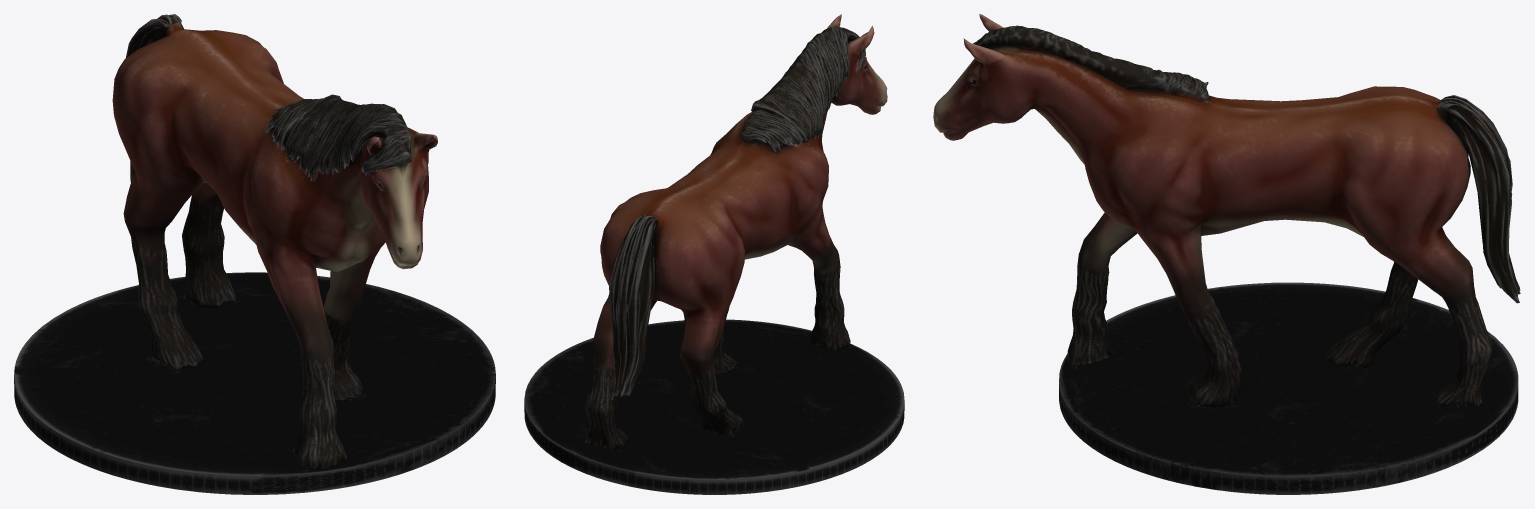
The model's file is MZ4250 - Draft Horse .glb.
3 renders of one model, left to right at view 1: azimuth 30°, elevation 25°; view 2: azimuth 150°, elevation 25°; view 3: azimuth 270°, elevation 25°, orthographic. The views are drawn at different scales.
Parts seen in each view (by area): view 1: body_low.001, base_low.001; view 2: body_low.001, base_low.001; view 3: body_low.001, base_low.001.
Boxes of the visible parts, box(x1,y1,x2,y2) form: body_low.001: box(112, 14, 437, 469); base_low.001: box(14, 272, 495, 494); body_low.001: box(585, 14, 887, 450); base_low.001: box(524, 319, 904, 494); body_low.001: box(933, 14, 1520, 407); base_low.001: box(1059, 282, 1518, 494).
Bounding box in the file's own units: 1.99 × 1.77 × 2.55.
1 material, 1 textured.
